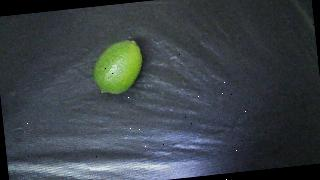LOCAL: (89, 39, 145, 96)
